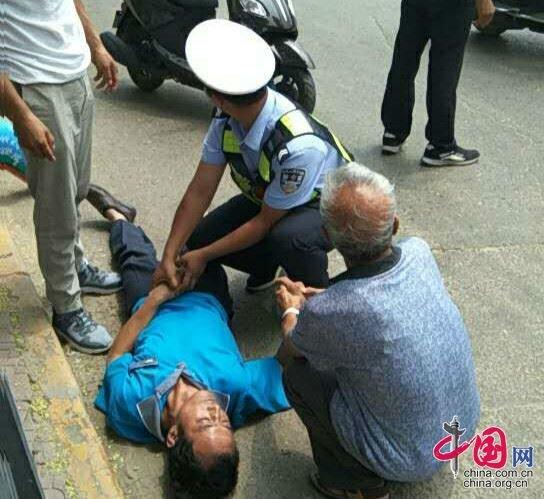bending: (275, 165, 481, 499), (148, 14, 361, 289)
down: (73, 183, 285, 498)
up: (1, 1, 123, 355)
